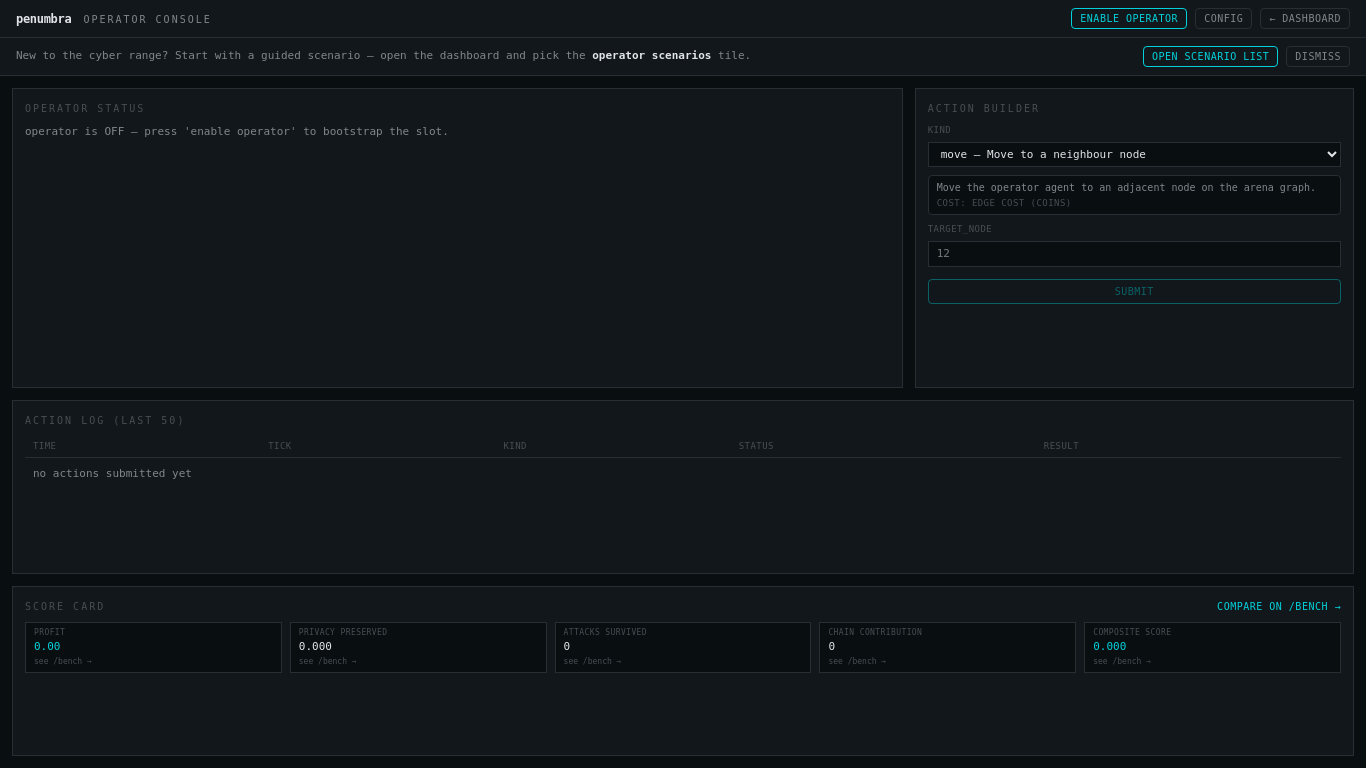
Test case: Operator console › submits the form against the matching /operator/<kind> endpoint
Type "14" into the field labelled "target_node" at (1134, 254), box 928,240 -> 1341,267
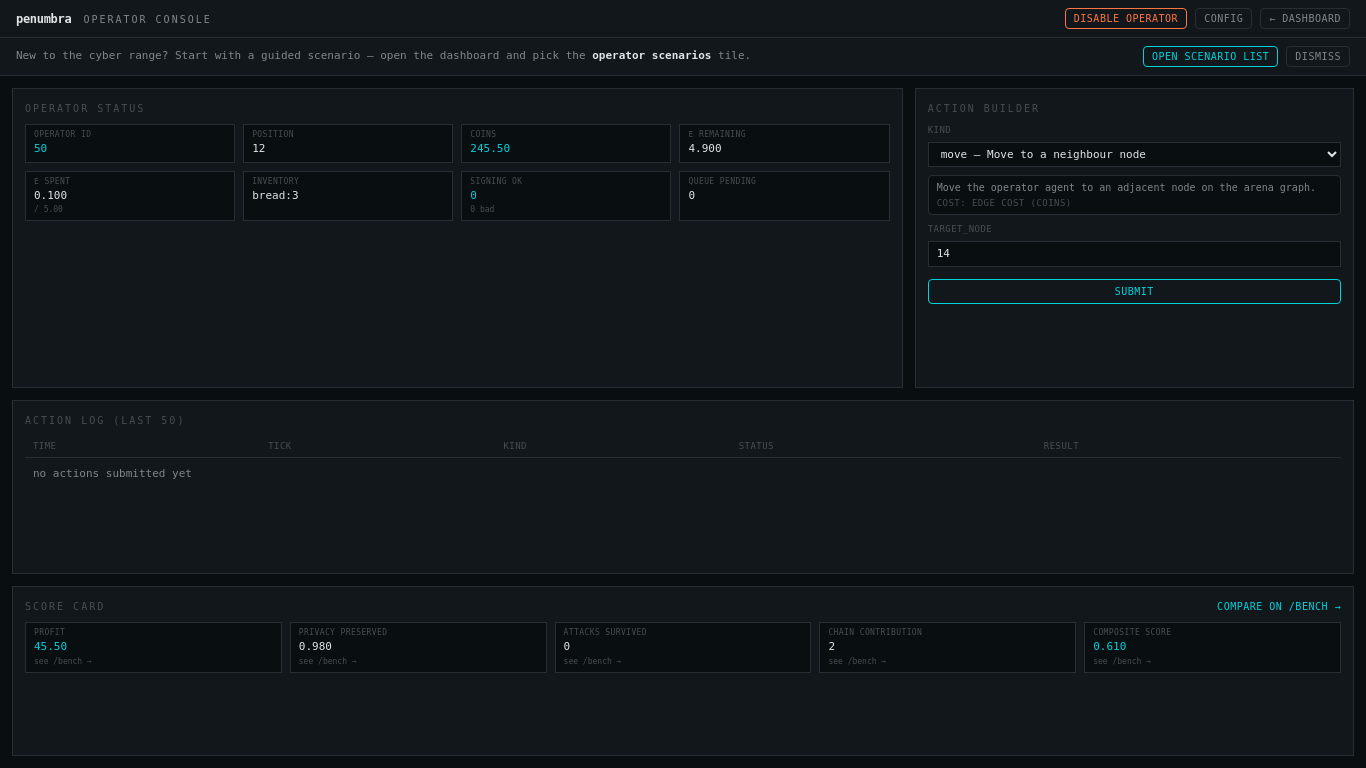
Click the button "submit" at (1134, 292), box 928,279 -> 1341,304
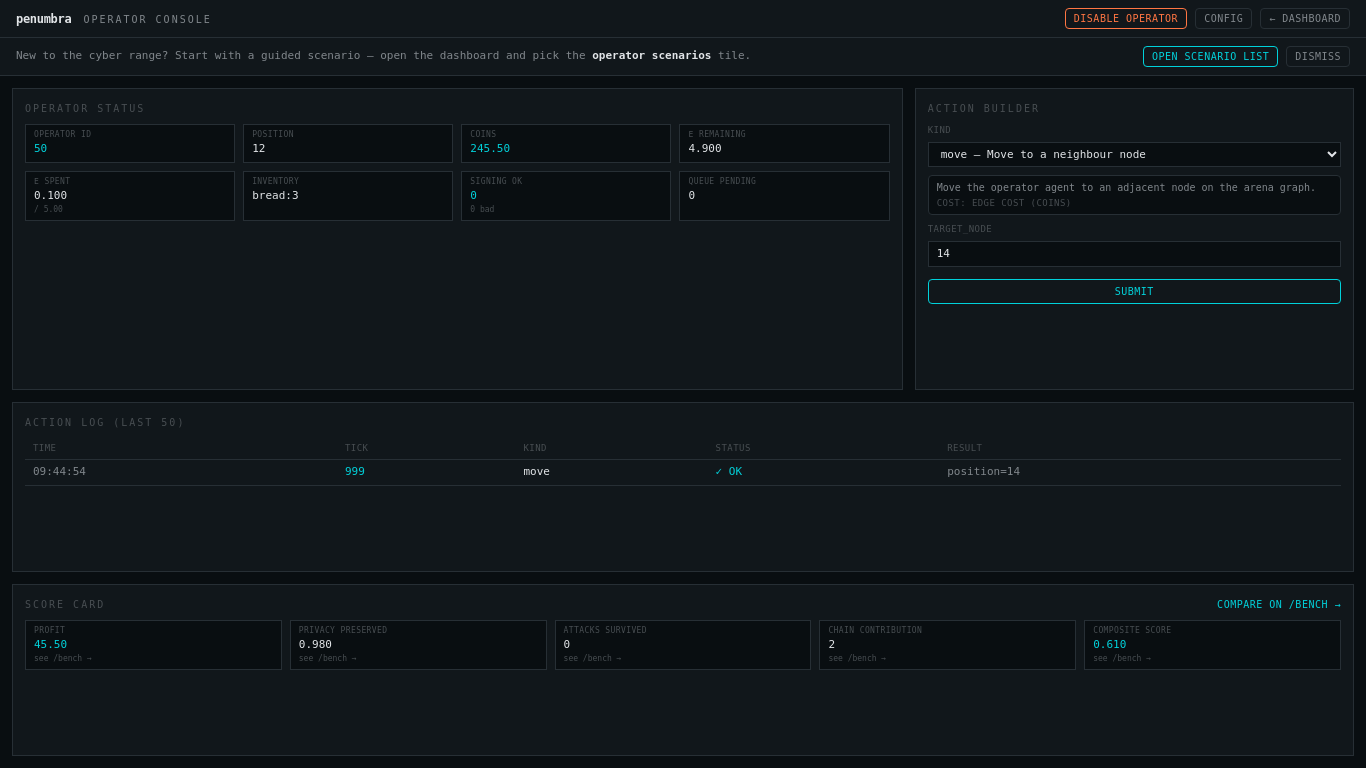
Expected: the text "position=14" is shown, 939,460 -> 1341,485
